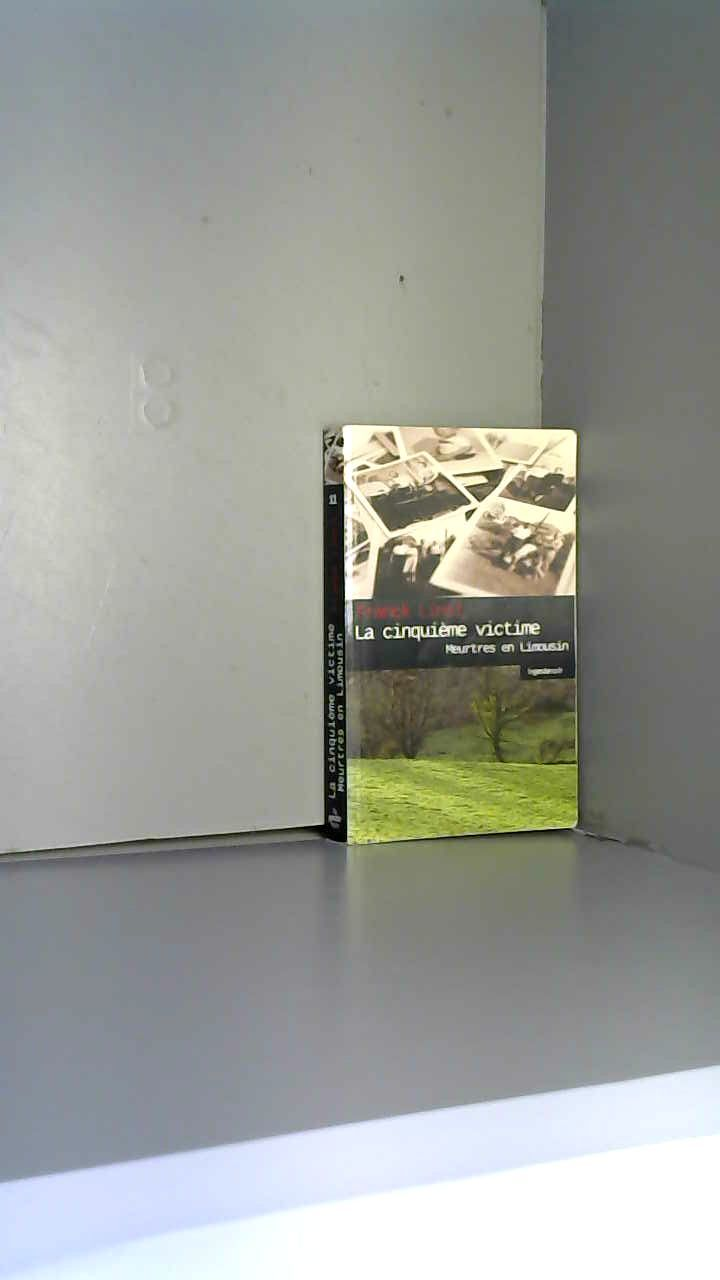book: (308, 405, 596, 859)
